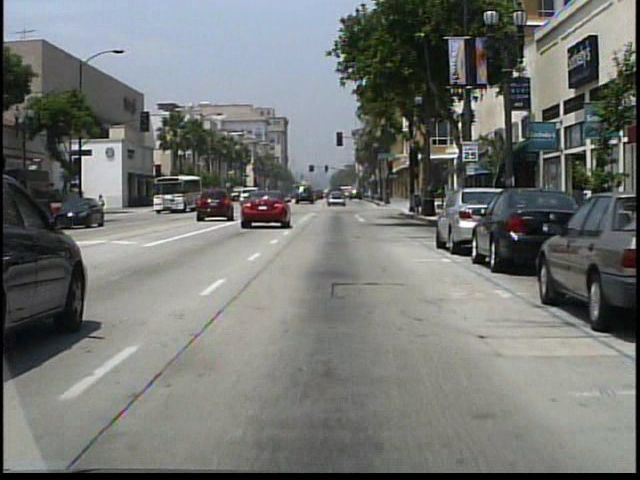person: (99, 192, 106, 216)
